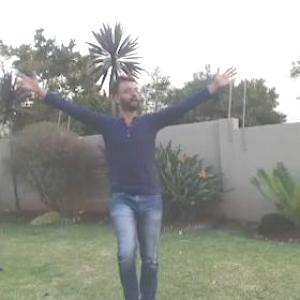takeoff: (1, 53, 246, 299)
